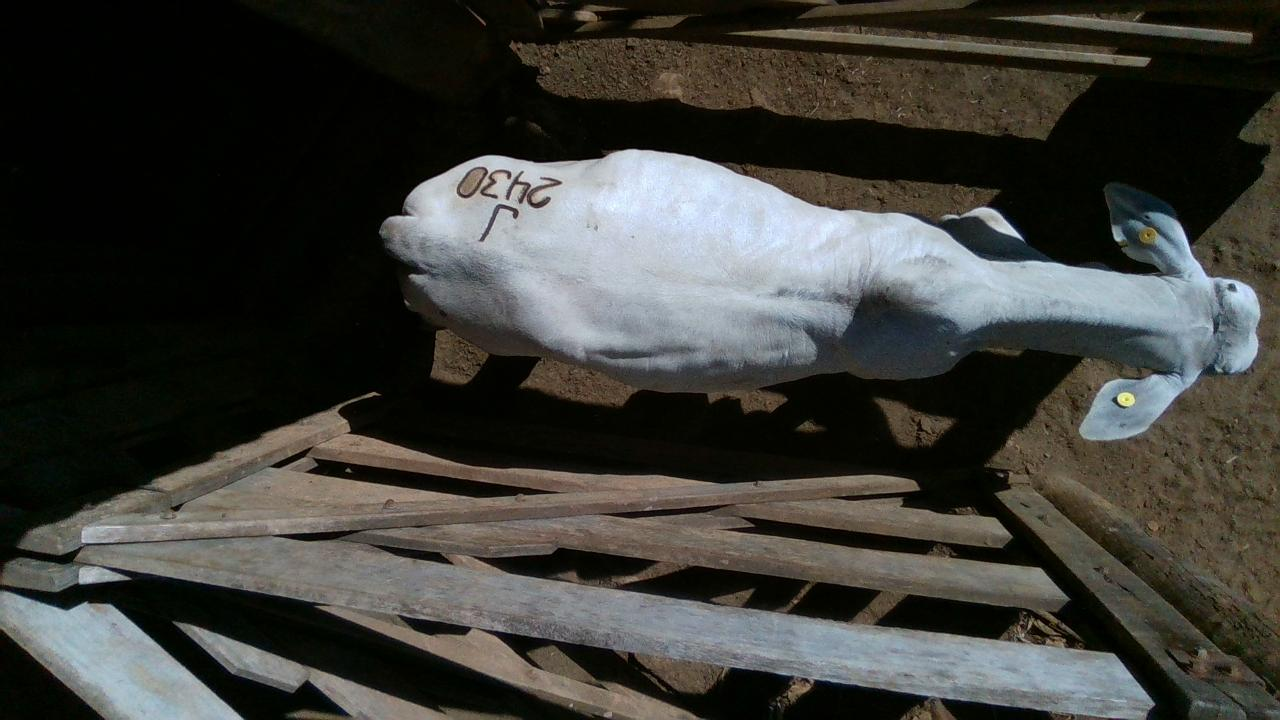cattle: (377, 146, 1261, 442)
